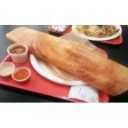dosa: (4, 26, 128, 95)
